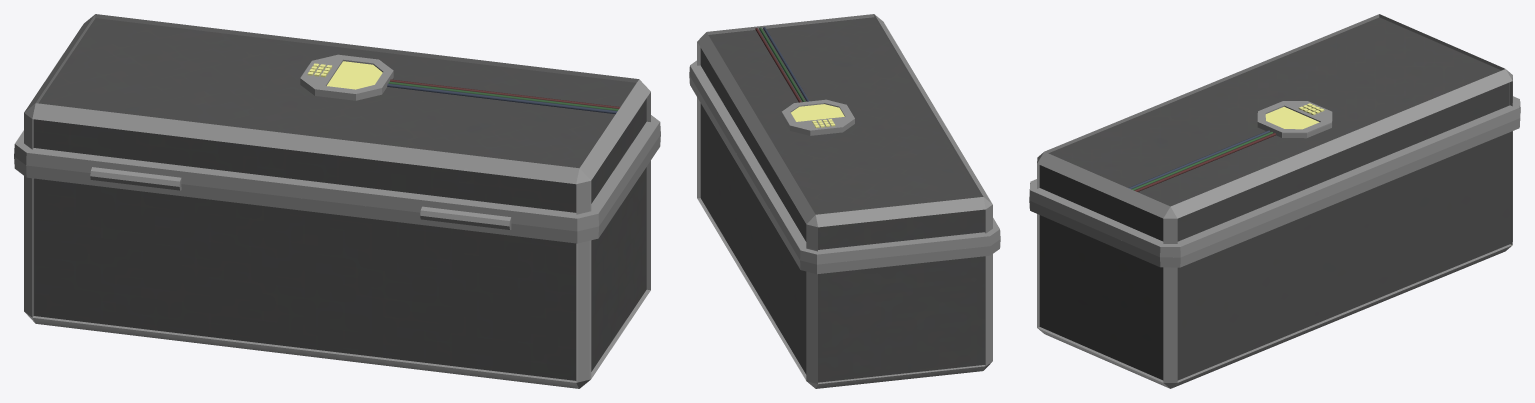
Rendered from Locked_Crate_Closed_10.fbx.
3 views of the same model, side by side, from view 1: azimuth 30°, elevation 25°; view 2: azimuth 150°, elevation 25°; view 3: azimuth 270°, elevation 25° (orthographic). The views are drawn at different scales.
Visible parts, largest first — view 1: Locked_Crate_Closed_10; view 2: Locked_Crate_Closed_10; view 3: Locked_Crate_Closed_10.
Boxes of the visible parts, bbox=[...] form: Locked_Crate_Closed_10: bbox=[14, 14, 660, 388]; Locked_Crate_Closed_10: bbox=[689, 14, 1000, 388]; Locked_Crate_Closed_10: bbox=[1029, 14, 1520, 388].
Size of the model in its own units: 690 by 292 by 699.
